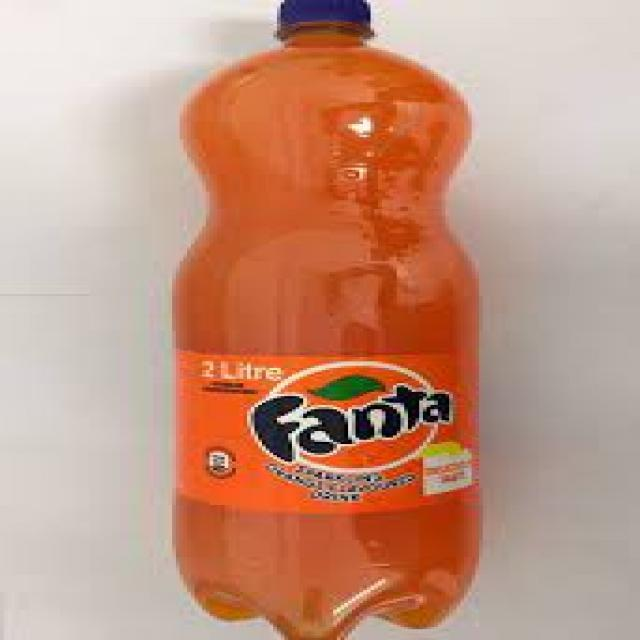Fanta: (157, 4, 497, 640)
